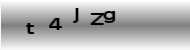4: (48, 17, 62, 31)
J: (71, 7, 81, 24)
Z: (89, 12, 105, 26)
g: (103, 9, 116, 24)
t: (24, 23, 36, 35)
